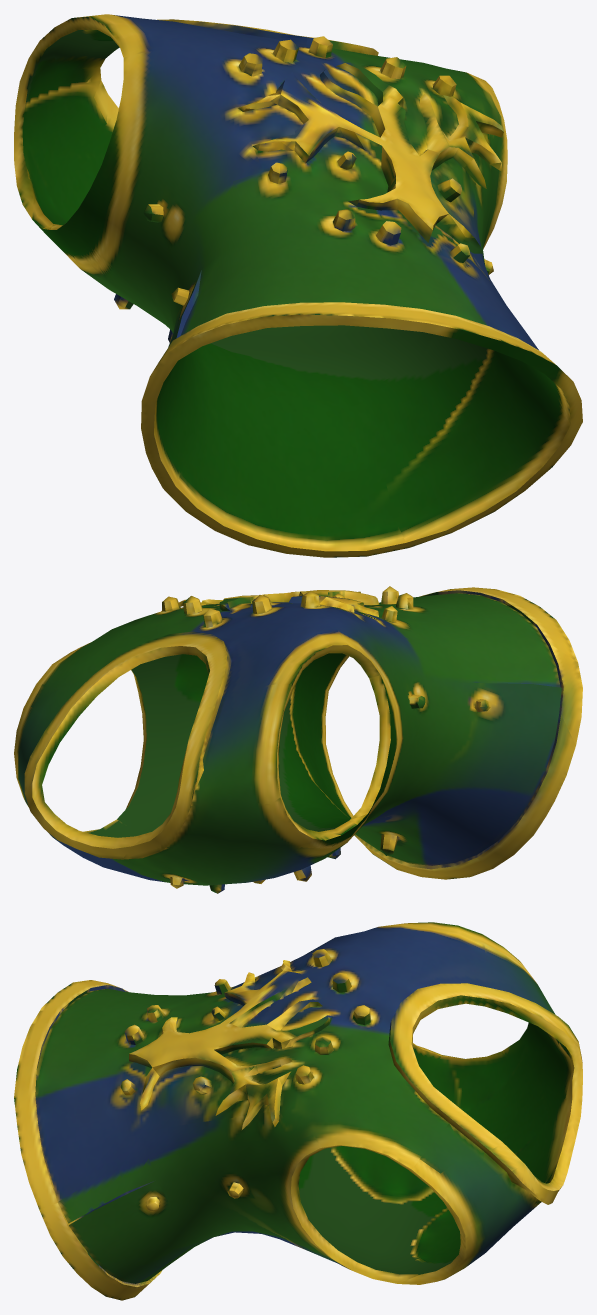
File: item_mm9_10200.glb
3 renders of one model, top to bottom at view 1: azimuth 30°, elevation 25°; view 2: azimuth 150°, elevation 25°; view 3: azimuth 270°, elevation 25°, orthographic. The views are drawn at different scales.
Visible parts, largest first — view 1: d10200; view 2: d10200; view 3: d10200.
Boxes of the visible parts, bbox=[...] form: d10200: bbox=[14, 14, 582, 557]; d10200: bbox=[14, 586, 582, 893]; d10200: bbox=[14, 922, 582, 1300].
Size of the model in its own units: 0.9139 by 0.7373 by 1.13.
1 material, 1 textured.
